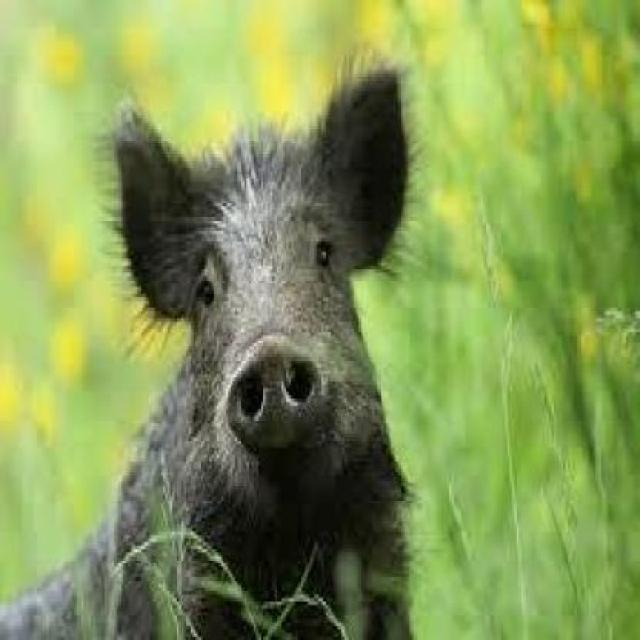wildboar: (0, 55, 418, 638)
